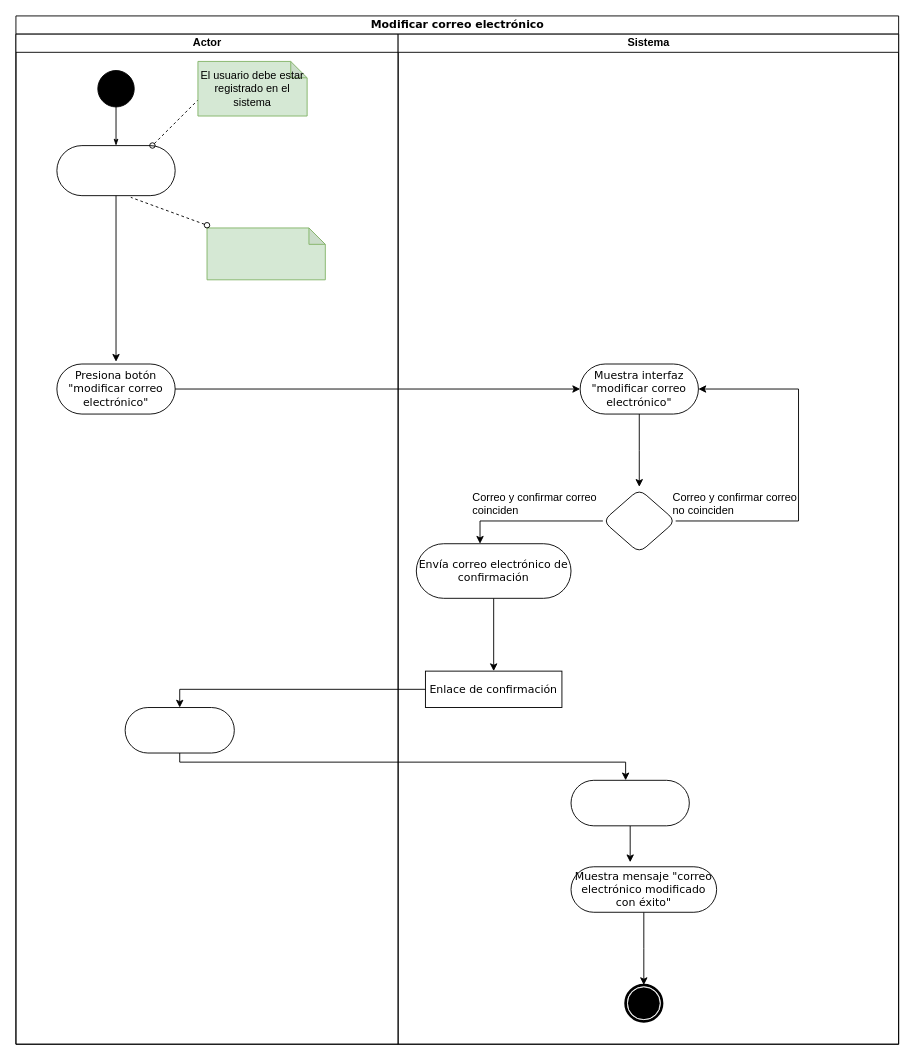
Some shapes in this 915 by 1060 pixel diagram are drawn without their labels. Each missing label, with the centre of its shape:
Actualiza base de datos: pixel 629 802
Hace click sobre el enlace: pixel 179 730
Presiona botón configuración de cuenta: pixel 115 170
Se inicia como un extend de "Gestión de perfil": pixel 265 253
